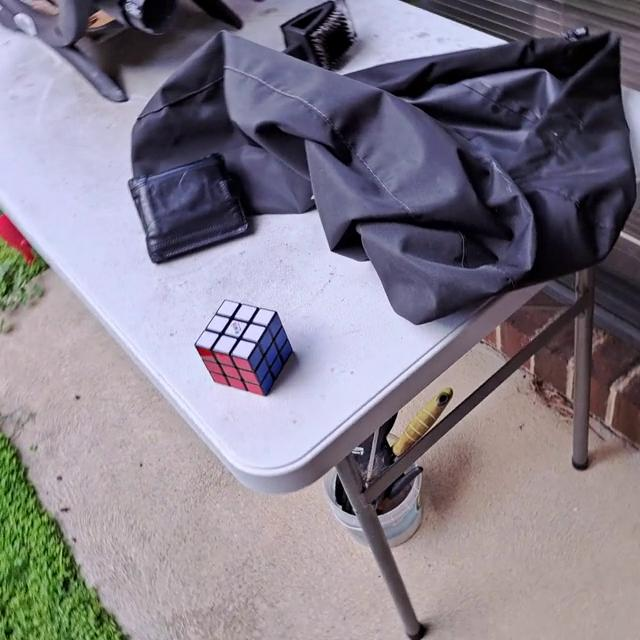rubix_cube: (192, 297, 296, 397)
